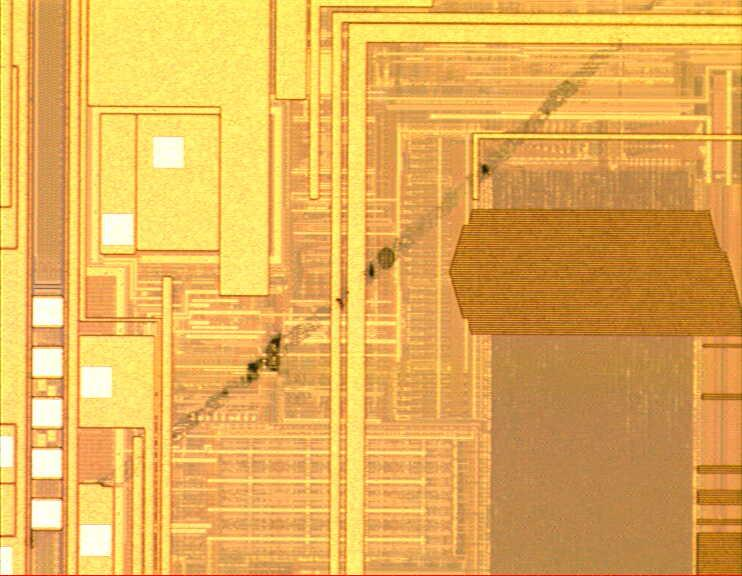SCRATCH: (59, 2, 677, 516)
